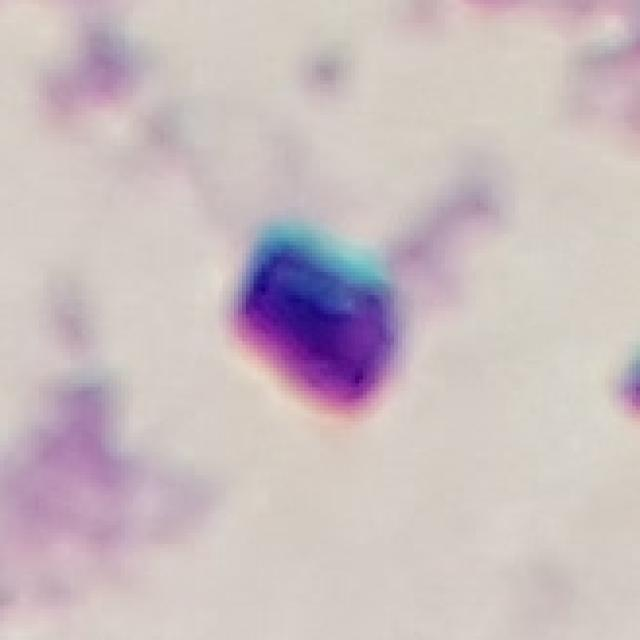non-sperm: (219, 222, 412, 426)
